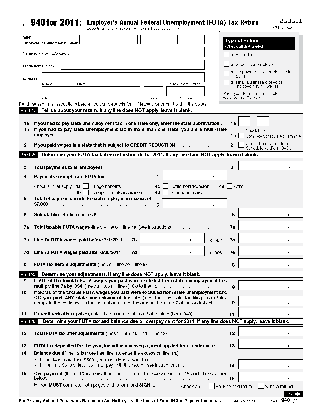checkbox: (222, 51, 230, 58), (223, 60, 230, 68), (237, 132, 245, 139), (237, 141, 245, 148), (82, 182, 90, 189), (82, 189, 90, 196), (161, 182, 169, 189), (226, 182, 233, 190), (208, 382, 216, 389), (223, 70, 230, 77), (223, 79, 230, 86), (162, 188, 169, 195), (257, 382, 264, 389)
textbox: (40, 71, 205, 82), (59, 59, 205, 71), (70, 46, 205, 58), (39, 85, 141, 98), (237, 159, 304, 172), (237, 279, 304, 292), (237, 294, 304, 307), (237, 337, 304, 350), (237, 370, 304, 383), (161, 169, 228, 181), (161, 197, 228, 209), (139, 232, 206, 244), (138, 244, 205, 256), (237, 207, 304, 219), (237, 219, 304, 231), (237, 232, 304, 244), (237, 244, 304, 256), (237, 257, 304, 269), (237, 306, 304, 318), (237, 325, 304, 337), (237, 358, 304, 370), (165, 85, 205, 98), (143, 85, 165, 98), (237, 115, 252, 128), (255, 115, 270, 128), (78, 33, 91, 45), (139, 33, 152, 45), (113, 33, 125, 45), (126, 33, 138, 45), (153, 33, 165, 45), (166, 33, 178, 45), (180, 33, 192, 45), (193, 33, 205, 45), (92, 34, 105, 45)
